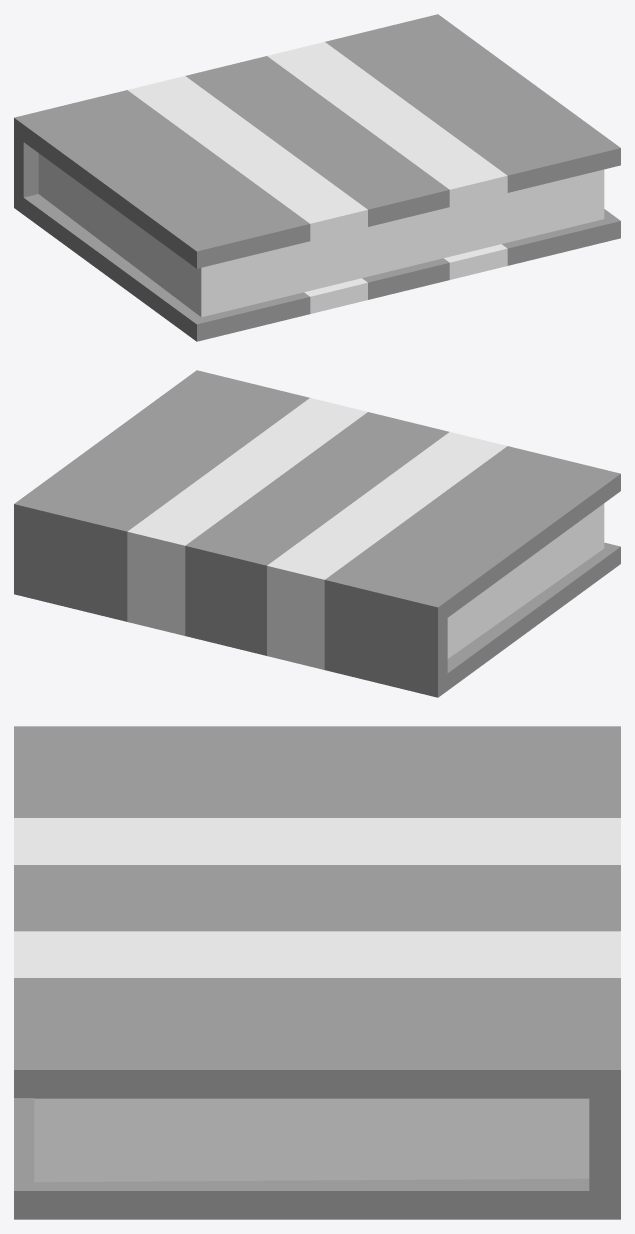
Rendered from Book_14.fbx.
The picture shows the model from 3 angles, top to bottom: view 1: azimuth 30°, elevation 25°; view 2: azimuth 150°, elevation 25°; view 3: azimuth 270°, elevation 25°; orthographic projection. The views are drawn at different scales.
Visible parts, largest first — view 1: Book_14; view 2: Book_14; view 3: Book_14.
Boxes of the visible parts, <box> form: Book_14: <box>14,14,620,341</box>; Book_14: <box>14,370,620,697</box>; Book_14: <box>14,726,620,1219</box>.
Size of the model in its own units: 0.2273 by 0.0462 by 0.1697.
